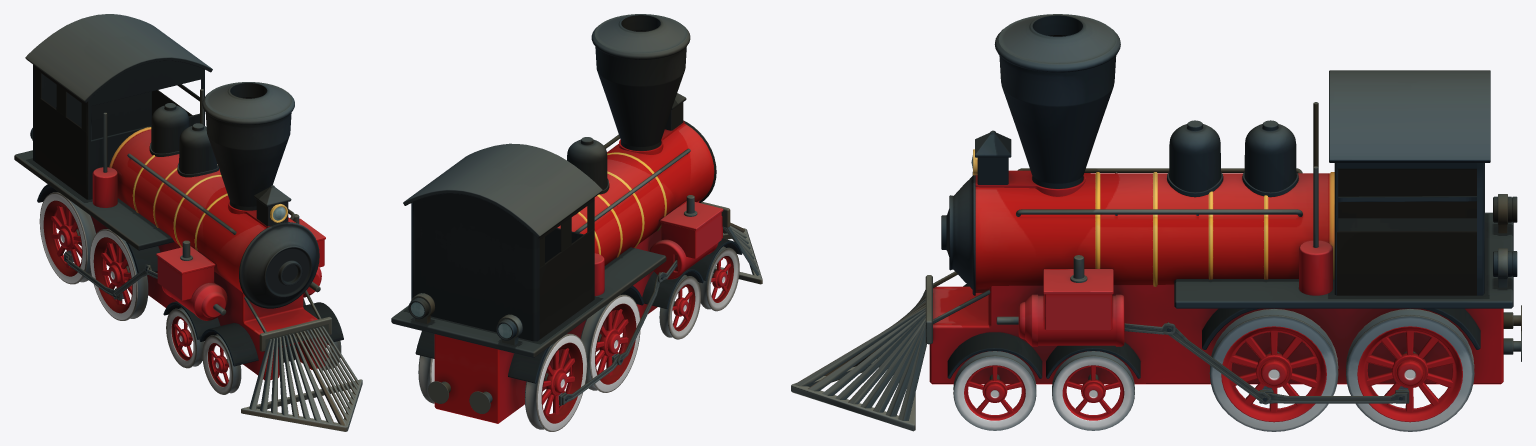
3 renders of one model, left to right at view 1: azimuth 30°, elevation 25°; view 2: azimuth 150°, elevation 25°; view 3: azimuth 270°, elevation 25°, orthographic. The views are drawn at different scales.
Parts seen in each view (by area): view 1: steam_train.1; view 2: steam_train.1; view 3: steam_train.1.
Boxes of the visible parts, x1,y1,x2,y2 form: steam_train.1: (14, 14, 362, 431); steam_train.1: (391, 14, 762, 431); steam_train.1: (791, 14, 1521, 431).
Bounding box in the file's own units: 1.64 × 2.95 × 5.29.
Materials: 1 (1 with a texture image).
